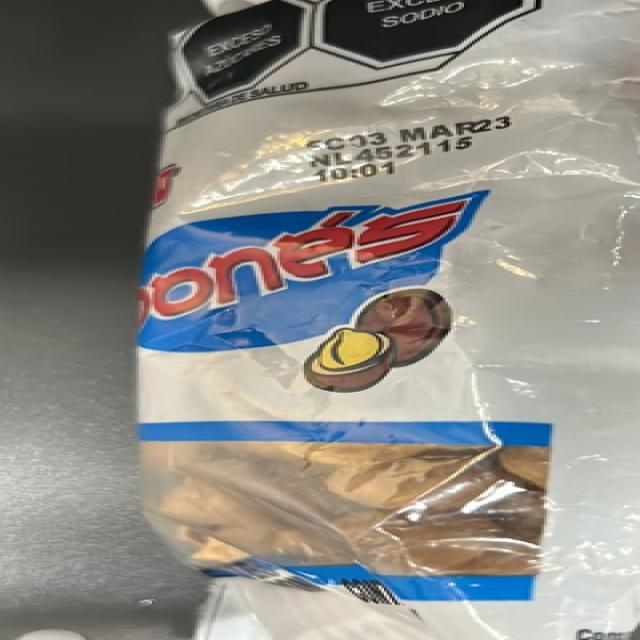leoCacahuates: (165, 21, 640, 634)
